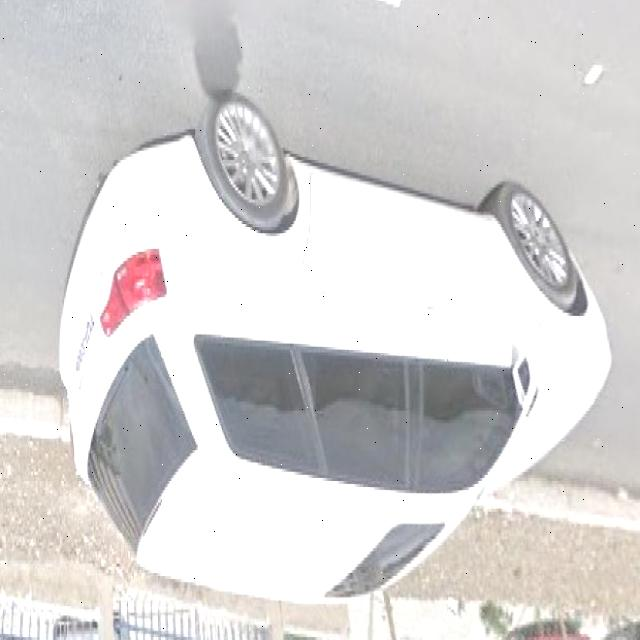car: (57, 101, 609, 598)
